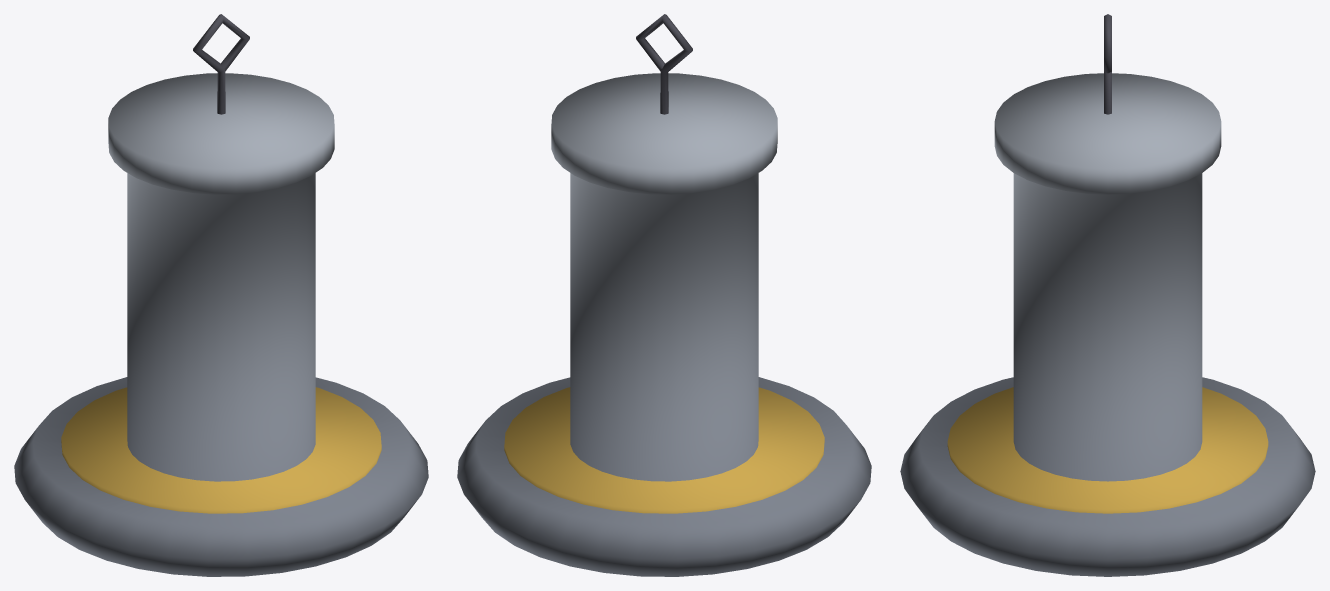
Rendered from chicken_feeder.glb.
3 views of the same model, side by side, from view 1: azimuth 30°, elevation 25°; view 2: azimuth 150°, elevation 25°; view 3: azimuth 270°, elevation 25° (orthographic).
Parts seen in each view (by area): view 1: chicken_feeder; view 2: chicken_feeder; view 3: chicken_feeder.
Boxes of the visible parts, x1=… form: chicken_feeder: x1=14, y1=14, x2=428, y2=576; chicken_feeder: x1=457, y1=14, x2=871, y2=576; chicken_feeder: x1=900, y1=14, x2=1315, y2=576.
Size of the model in its own units: 0.44 by 0.565 by 0.44.
